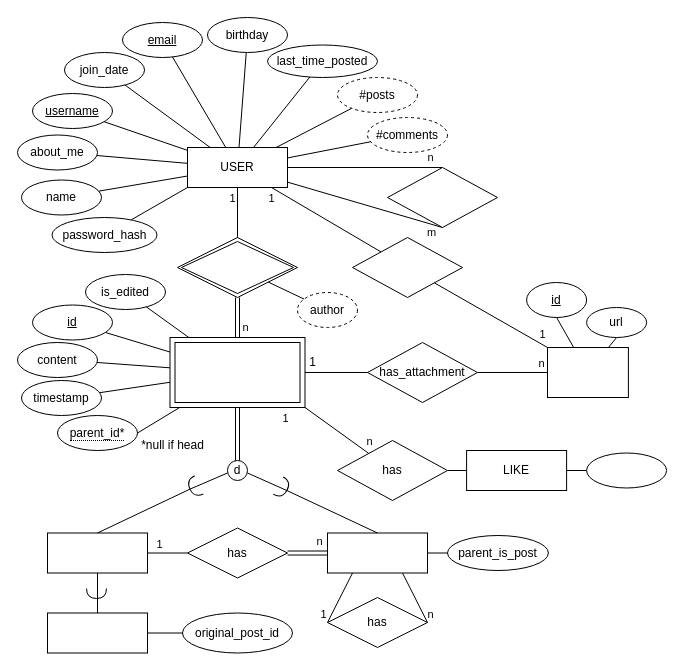
The diagram is 685 pixels wide and 671 high, and some of its shapes have lost their labels. The centre of each missing label's shape, as x and y in pixels:
"COMMENT" belongs at (x=377, y=552).
"creates" belongs at (x=237, y=267).
"follows" belongs at (x=442, y=197).
"has_pfp" belongs at (x=407, y=267).
"IMAGE" belongs at (x=587, y=372).
"POST" belongs at (x=97, y=552).
"REPOST" belongs at (x=97, y=632).
"THREAD_ITEM" belongs at (x=237, y=372).
"user_id" belongs at (x=626, y=470).
